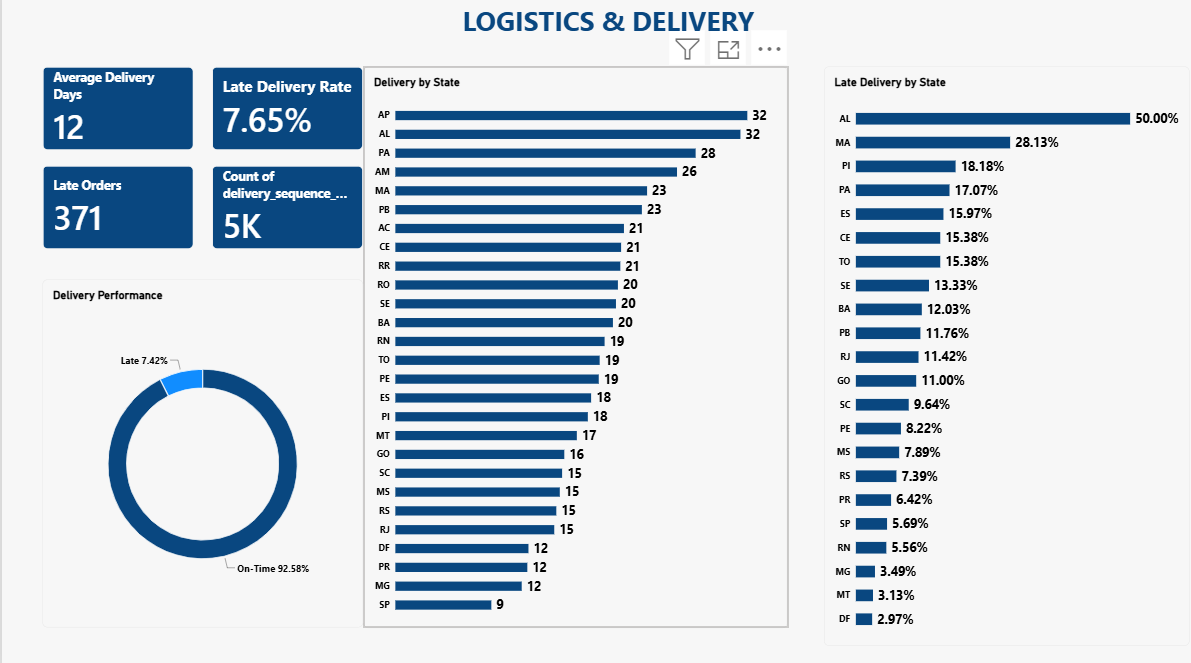

This screenshot's page, from the dashboard's own definition file:
{"tool":"powerbi","page":{"name":"LOGISTICS & DELIVERY","canvas":[1920,1080],"ordinal":2},"visuals":[{"type":"cardVisual","fields":{"Data":["vw_order_summary.Late Orders"]},"box":[64.9,278.3,241,133.6],"z":0},{"type":"cardVisual","fields":{"Data":["vw_order_summary.Late Delivery Rate"]},"box":[333.9,120.6,241,133.6],"z":1000},{"type":"cardVisual","fields":{"Data":["vw_order_summary.Average Delivery Days"]},"box":[64.9,120.6,241,133.6],"z":2000},{"type":"clusteredBarChart","title":"Delivery by State","fields":{"Category":["vw_order_summary.customer_state"],"Y":["vw_order_summary.Average Delivery Days"]},"box":[575.1,120.6,674,893.5],"z":3000},{"type":"clusteredBarChart","title":"Late Delivery by State","fields":{"Category":["vw_order_summary.customer_state"],"Y":["vw_order_summary.Late Delivery Rate"]},"box":[1307.8,120.6,581.3,921.4],"z":4000},{"type":"donutChart","title":"Delivery Performance","fields":{"Category":["vw_order_summary.Delivery Performance"],"Y":["CountNonNull(vw_order_summary.delivery_sequence_anomaly_flag)"]},"box":[64.9,460.7,510.1,553.4],"z":5000},{"type":"cardVisual","fields":{"Data":["CountNonNull(vw_order_summary.delivery_sequence_anomaly_flag)"]},"box":[333.9,278.3,241,133.6],"z":6000},{"type":"textbox","box":[732.5,19.1,515.4,74],"z":6001}]}

Visuals, with their boxes in screenshot pixels (x1, y1, x2, y2), scaled from the page's 1920x1080 canvas onto the 1191x663 screenshot:
cardVisual - vw_order_summary.Late Orders: 40, 171, 190, 253
cardVisual - vw_order_summary.Late Delivery Rate: 207, 74, 357, 156
cardVisual - vw_order_summary.Average Delivery Days: 40, 74, 190, 156
"Delivery by State" clusteredBarChart: 357, 74, 775, 623
"Late Delivery by State" clusteredBarChart: 811, 74, 1172, 640
"Delivery Performance" donutChart: 40, 283, 357, 623
cardVisual - CountNonNull(vw_order_summary.delivery_sequence_anomaly_flag): 207, 171, 357, 253
textbox: 454, 12, 774, 57
